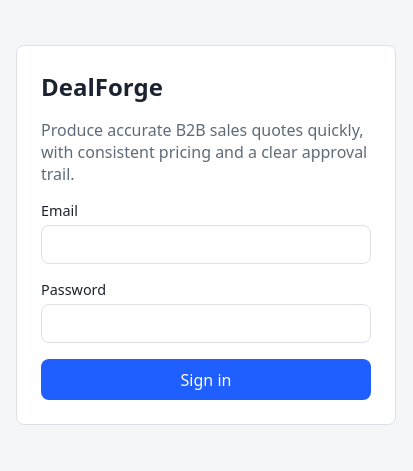
App routing and authentication › reports non-auth failures differently
Type "rep@helix.example" into the field labelled "Email".
click(206, 244); type("rep@helix.example")  # box [41,225,371,264]
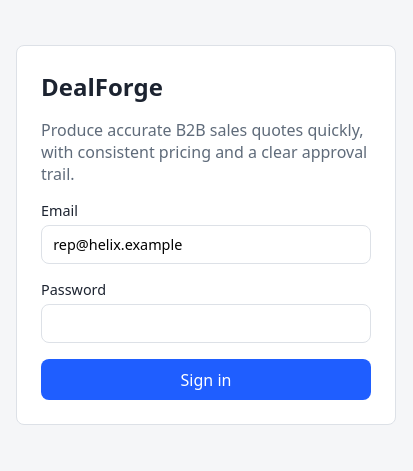
Type "whatever" into the password field labelled "Password".
click(206, 324); type("whatever")  # box [41,304,371,343]
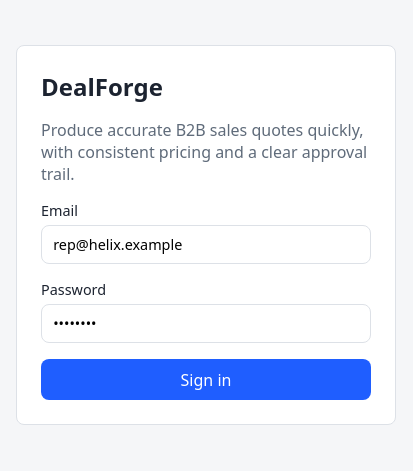
Click the button "Sign in".
click(206, 380)  # box [41,359,371,400]
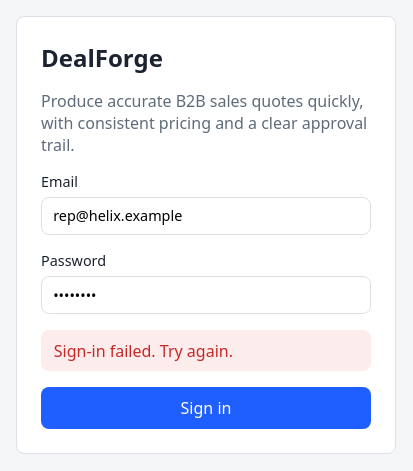
Result: the message reads "Sign-in failed. Try again." at [54,340,233,362]
